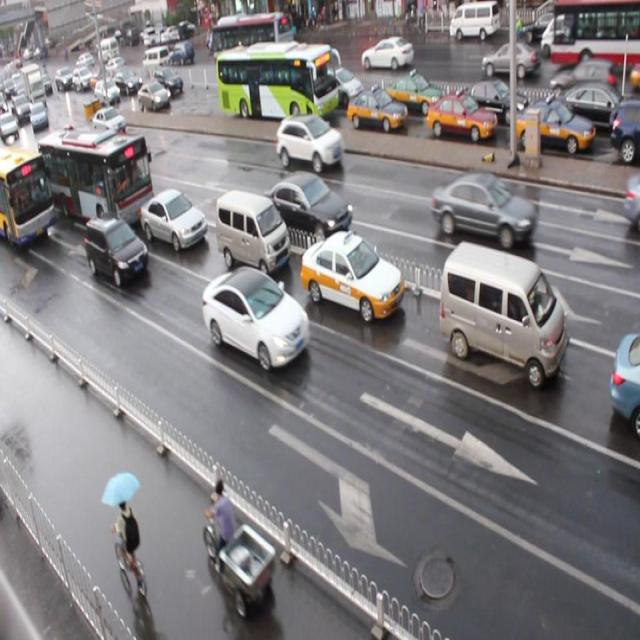car: (202, 265, 309, 374), (300, 229, 403, 321), (430, 172, 533, 251), (260, 167, 353, 244), (545, 82, 640, 136), (85, 211, 149, 288), (514, 101, 594, 160), (140, 188, 208, 252), (276, 113, 344, 173), (426, 91, 498, 145), (608, 330, 640, 433), (461, 80, 527, 126), (345, 89, 407, 134), (382, 71, 444, 115), (320, 65, 367, 107), (610, 99, 640, 161), (22, 160, 61, 204), (93, 106, 126, 141), (138, 82, 171, 110), (623, 172, 640, 224), (153, 68, 182, 96), (113, 70, 141, 95)
truck: (438, 240, 568, 389), (215, 186, 290, 282), (61, 128, 102, 166)
van: (38, 127, 154, 235), (216, 41, 339, 125), (1, 144, 56, 249)
